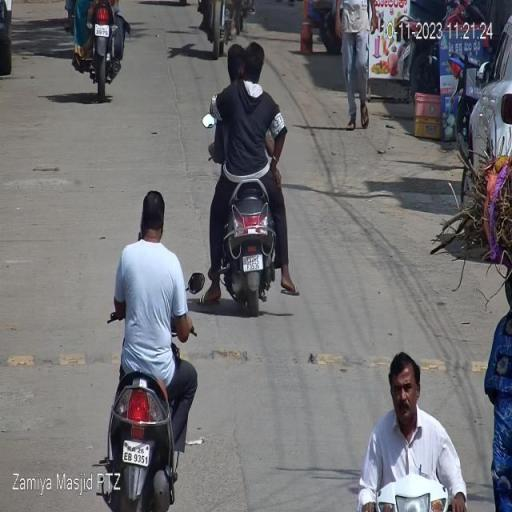using mobile: (133, 221, 142, 242)
